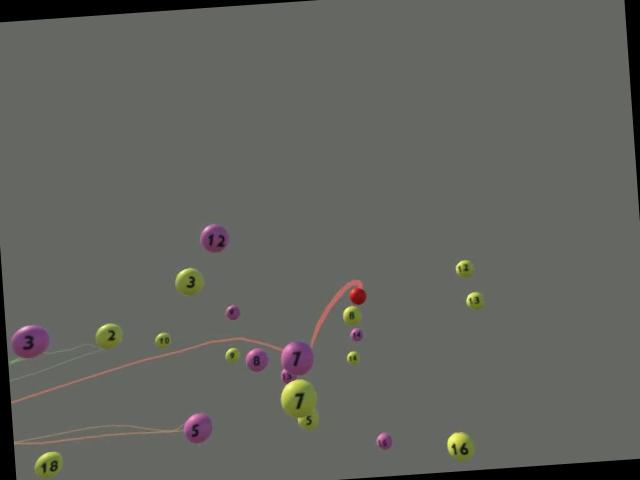ball_02_yellow: (94, 322, 123, 348)
ball_03_pink: (10, 324, 50, 359)
ball_03_yellow: (173, 266, 204, 296)
ball_05_pink: (182, 412, 212, 443)
ball_05_yellow: (296, 409, 319, 429)
ball_06_yellow: (341, 304, 361, 324)
ball_07_pink: (278, 339, 314, 376)
ball_07_yellow: (278, 377, 318, 418)
ball_08_pink: (244, 347, 268, 372)
ball_09_pink: (224, 303, 240, 320)
ball_09_yellow: (223, 346, 240, 364)
ball_10_yellow: (153, 331, 170, 348)
ball_11_pink: (198, 222, 228, 252)
ball_12_yellow: (454, 258, 474, 278)
ball_13_pink: (279, 367, 294, 383)
ball_13_yellow: (464, 290, 484, 309)
ball_14_pink: (348, 326, 362, 342)
ball_14_yellow: (344, 350, 358, 364)
ball_15_pink: (375, 432, 392, 450)
ball_16_yellow: (444, 430, 474, 461)
ball_18_yellow: (32, 450, 62, 478)
user_cursor: (348, 286, 367, 304)
